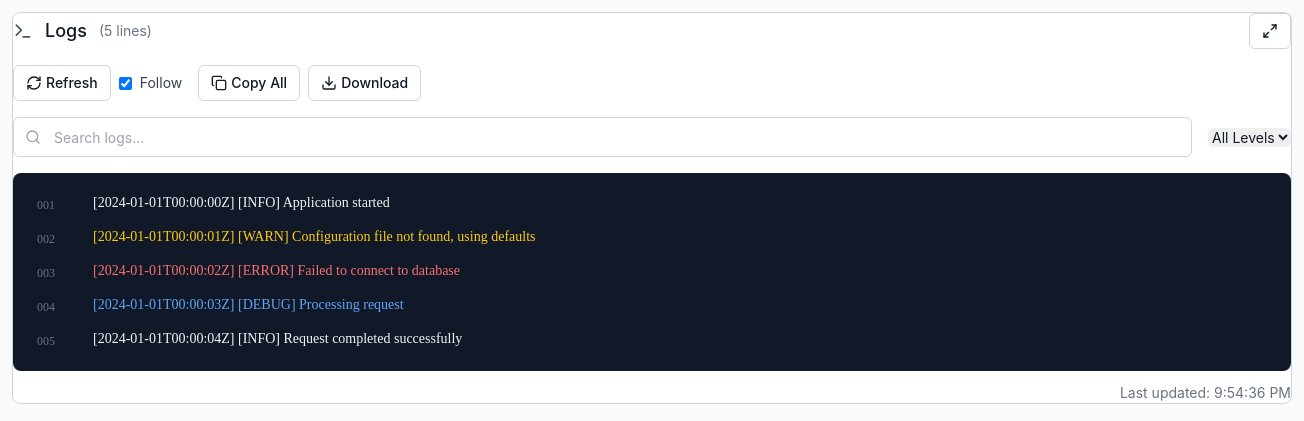
Scenario: LogViewer › clears filters when clear button is clicked
# Apply a search filter
Step 1. Type "ERROR" into the field with placeholder "Search logs..." → (602, 137), box [13, 117, 1192, 157]
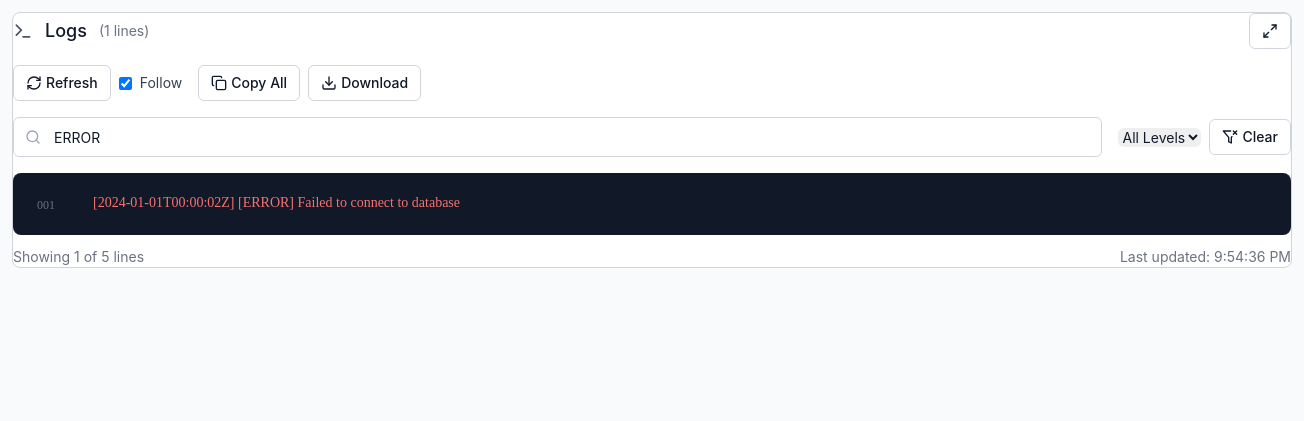
# Clear filters
Step 2. Click the button "Clear" → (1250, 137), box [1210, 119, 1291, 155]
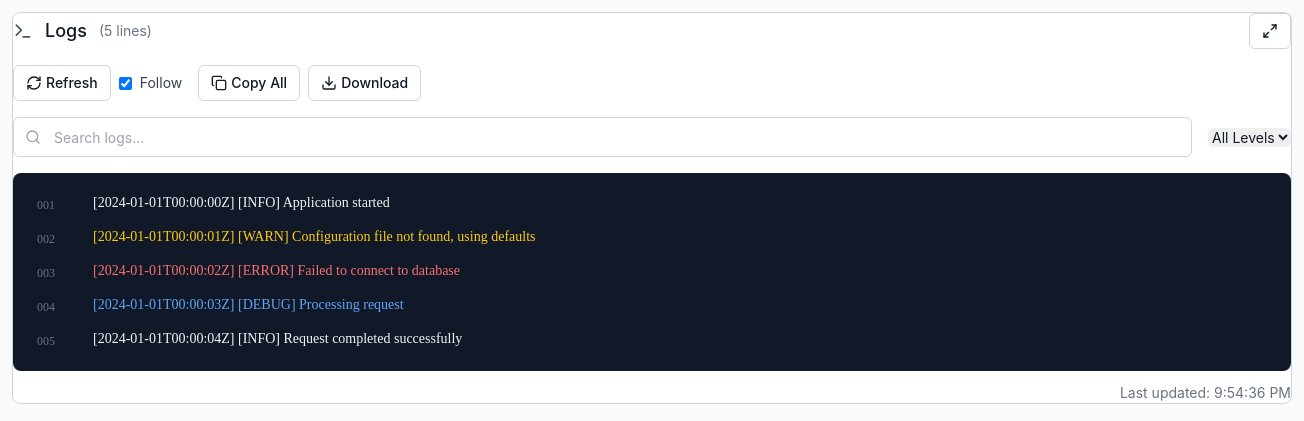
expect the dropdown showing "All Levels" is shown: met, box [1208, 128, 1291, 146]
expect the field showing "ERROR" is empty: met, box [13, 117, 1192, 157]
